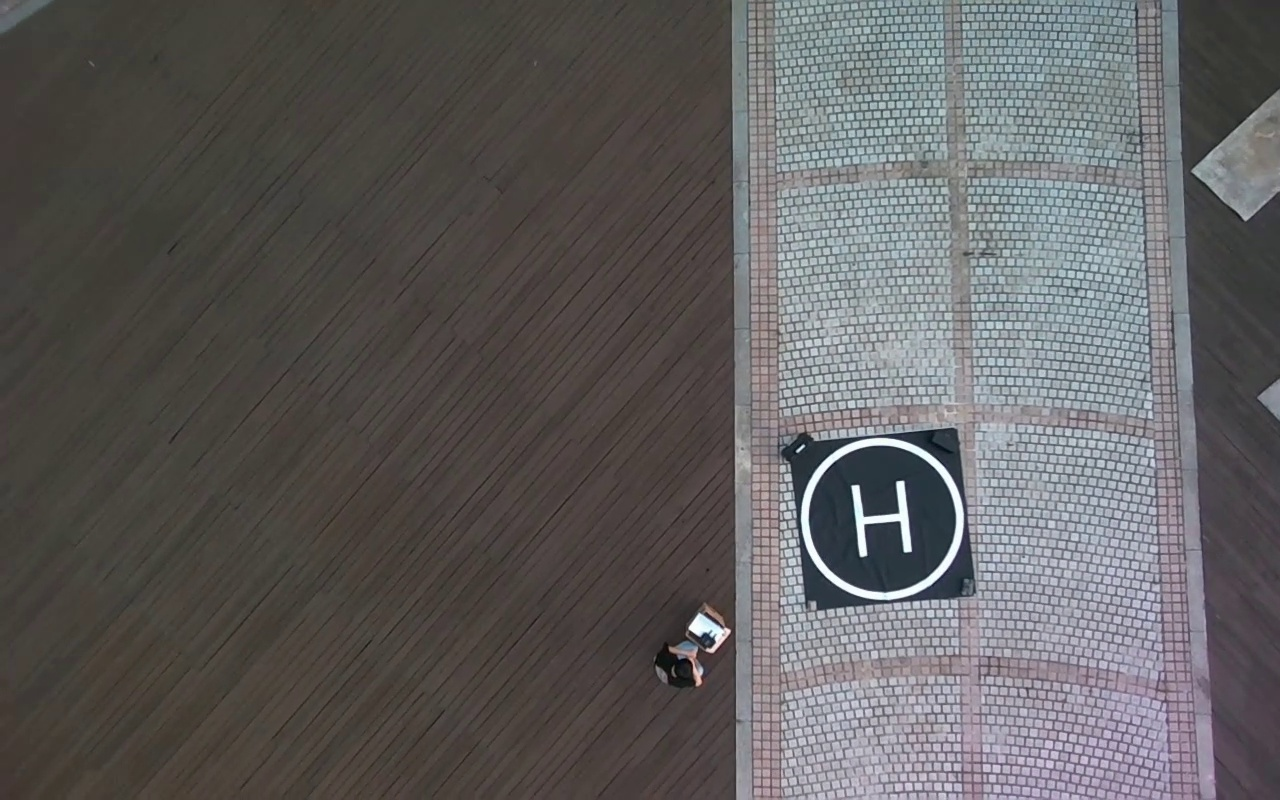H: (849, 479, 913, 556)
heliport: (802, 438, 965, 599)
